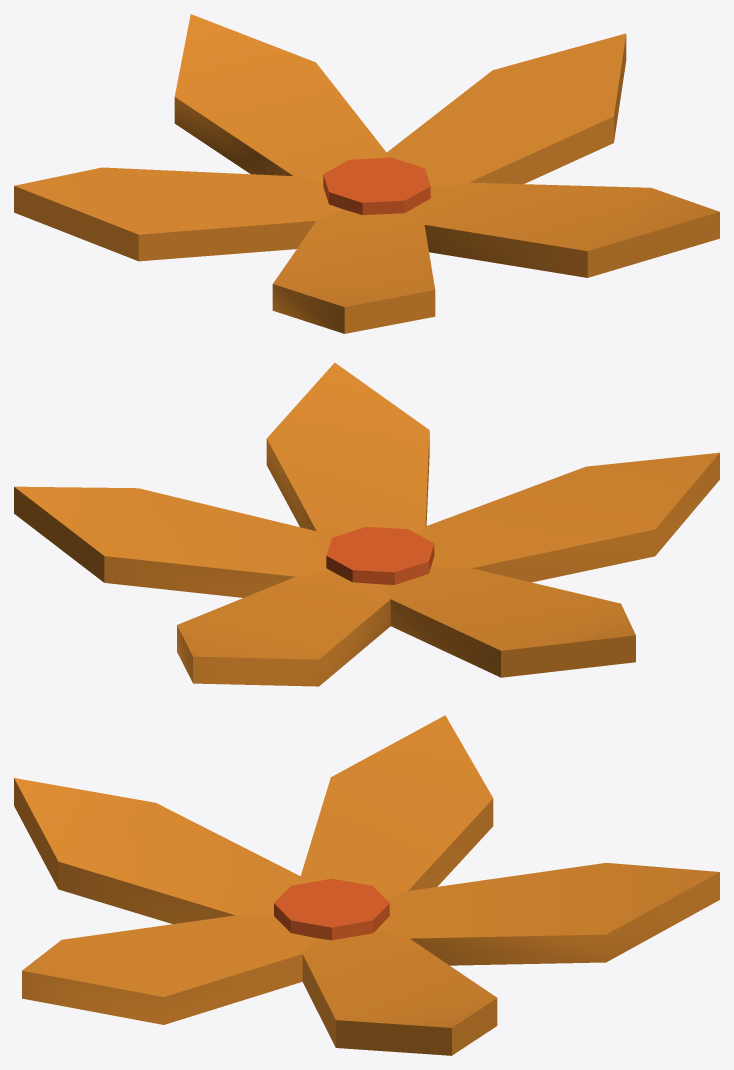
The model's file is Flower_Orange_2.fbx.
3 renders of one model, top to bottom at view 1: azimuth 30°, elevation 25°; view 2: azimuth 150°, elevation 25°; view 3: azimuth 270°, elevation 25°, orthographic. The views are drawn at different scales.
Parts seen in each view (by area): view 1: Cube.098, Cylinder.626; view 2: Cube.098, Cylinder.626; view 3: Cube.098, Cylinder.626.
Boxes of the visible parts, <box> form: Cube.098: <box>14,14,719,333</box>; Cylinder.626: <box>323,157,430,214</box>; Cube.098: <box>14,362,719,686</box>; Cylinder.626: <box>326,527,434,584</box>; Cube.098: <box>14,715,719,1055</box>; Cylinder.626: <box>274,878,389,940</box>.
Size of the model in its own units: 71.56 by 7.88 by 68.25.
